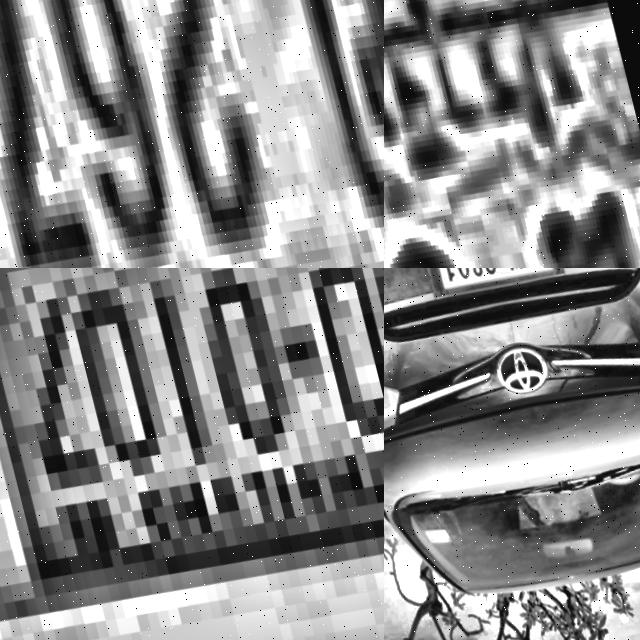license-plate: (0, 268, 384, 631), (0, 0, 384, 268), (384, 0, 640, 268), (418, 268, 561, 301)
